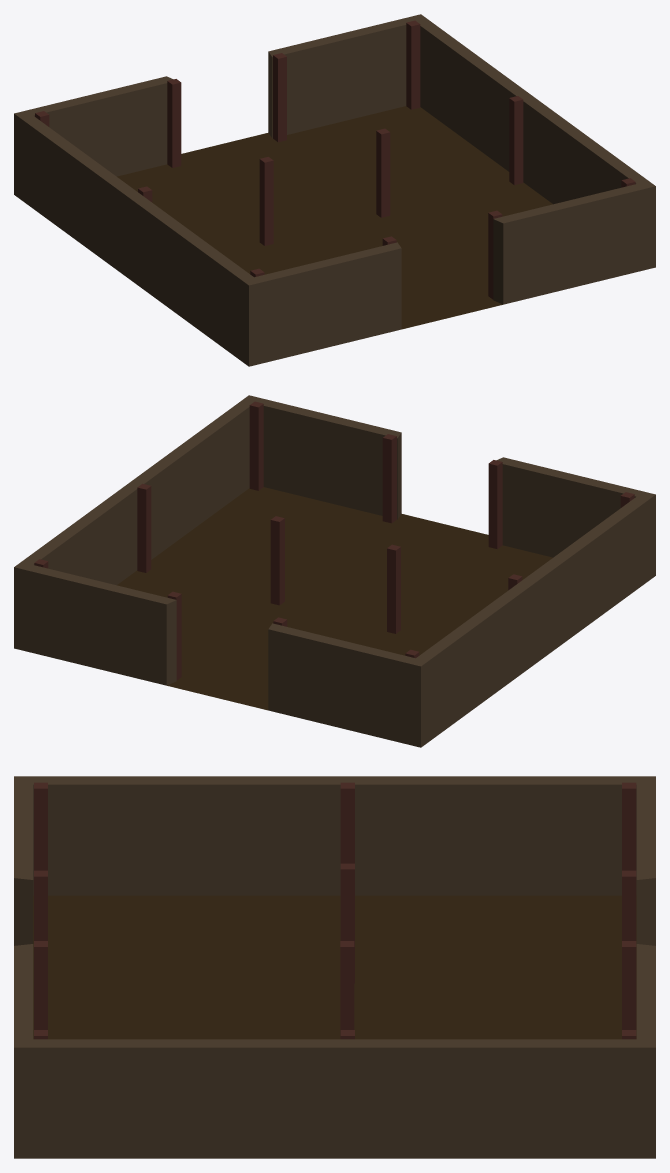
The model's file is RoomBaseLayout.fbx.
3 renders of one model, top to bottom at view 1: azimuth 30°, elevation 25°; view 2: azimuth 150°, elevation 25°; view 3: azimuth 270°, elevation 25°, orthographic. The views are drawn at different scales.
Visible parts, largest first — view 1: Room1.005, Support.075, Support.071, Support.067, Support.073, Support.074, Support.066, Support.064; view 2: Room1.005, Support.070, Support.064, Support.065, Support.073, Support.075, Support.074, Support.066; view 3: Room1.005, Support.075, Support.066, Support.069, Support.064, Support.068, Support.072, Support.074, Support.067, Support.065.
Part boxes in pixels (box(x1,y1,x2,y2)): Room1.005: box(14, 14, 655, 366); Support.075: box(376, 128, 390, 217); Support.071: box(406, 20, 420, 109); Support.067: box(167, 79, 181, 167); Support.073: box(509, 96, 523, 185); Support.074: box(259, 157, 273, 245); Support.066: box(273, 53, 286, 142); Support.064: box(488, 210, 502, 299); Room1.005: box(14, 395, 655, 747); Support.070: box(249, 401, 263, 490); Support.064: box(382, 434, 396, 523); Support.065: box(488, 460, 502, 549); Support.073: box(137, 483, 151, 572); Support.075: box(270, 516, 284, 605); Support.074: box(387, 544, 400, 633); Support.066: box(167, 591, 181, 680); Room1.005: box(14, 776, 655, 1158); Support.075: box(340, 941, 354, 1038); Support.066: box(622, 941, 636, 1029); Support.069: box(622, 782, 636, 870); Support.064: box(34, 941, 47, 1029); Support.068: box(34, 782, 47, 870); Support.072: box(340, 782, 354, 863); Support.074: box(340, 863, 354, 983); Support.067: box(622, 870, 636, 940); Support.065: box(34, 870, 47, 940).
Size of the model in its own units: 796 by 163 by 796.
